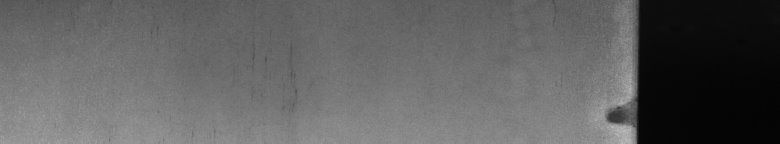hb: (595, 93, 628, 132)
